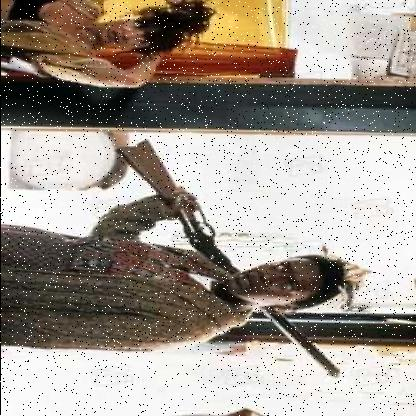rifle: (95, 137, 345, 382)
